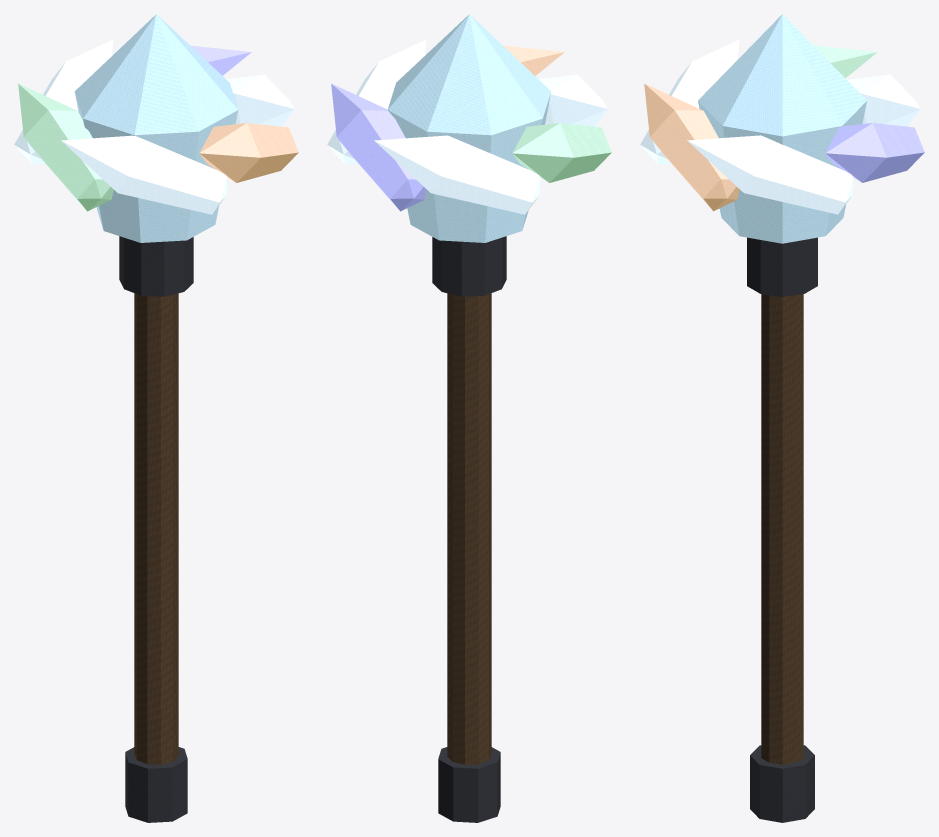
The model's file is crystal-weapon-mace.glb.
3 views of the same model, side by side, from view 1: azimuth 30°, elevation 25°; view 2: azimuth 150°, elevation 25°; view 3: azimuth 270°, elevation 25° (orthographic).
Visible parts, largest first — view 1: haft, head-core, striker-2, striker-3, striker-1, neck, pommel, striker-0, striker-4, striker-5; view 2: haft, head-core, striker-4, striker-5, striker-3, neck, pommel, striker-2, striker-0, striker-1; view 3: haft, head-core, striker-0, striker-1, striker-5, pommel, neck, striker-2, striker-4, striker-3.
Boxes of the visible parts, <box> form: haft: <box>134,293,178,764</box>; head-core: <box>74,14,238,242</box>; striker-2: <box>61,135,227,214</box>; striker-3: <box>18,83,113,211</box>; striker-1: <box>199,123,298,182</box>; neck: <box>119,236,193,296</box>; pommel: <box>125,747,187,822</box>; striker-0: <box>226,74,294,126</box>; striker-4: <box>14,39,113,164</box>; striker-5: <box>190,45,251,75</box>; haft: <box>447,293,491,764</box>; head-core: <box>387,14,551,242</box>; striker-4: <box>374,135,540,214</box>; striker-5: <box>331,83,426,211</box>; striker-3: <box>512,123,611,182</box>; neck: <box>432,236,506,296</box>; pommel: <box>438,747,500,822</box>; striker-2: <box>539,74,607,126</box>; striker-0: <box>327,39,426,164</box>; striker-1: <box>503,45,564,75</box>; haft: <box>761,294,803,764</box>; head-core: <box>698,14,866,243</box>; striker-0: <box>687,135,853,214</box>; striker-1: <box>644,83,739,211</box>; striker-5: <box>825,123,924,182</box>; pommel: <box>750,745,814,822</box>; neck: <box>747,237,817,296</box>; striker-2: <box>640,39,739,164</box>; striker-4: <box>847,74,920,126</box>; striker-3: <box>813,45,877,78</box>.
Bounding box in the file's own units: 0.4125 × 1.32 × 0.4287.
7 materials, 7 textured.
